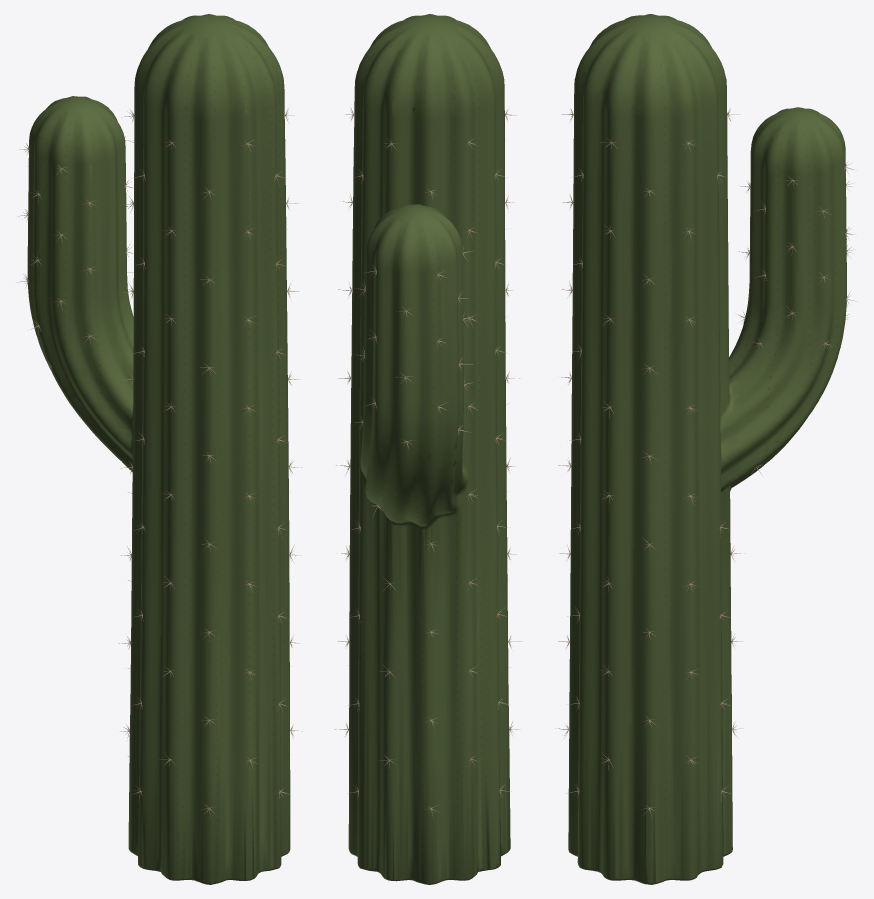
Rendered from frontier-cactus-near.glb.
3 views of the same model, side by side, from view 1: azimuth 30°, elevation 25°; view 2: azimuth 150°, elevation 25°; view 3: azimuth 270°, elevation 25° (orthographic).
Visible parts, largest first — view 1: prefab.saguaro_one_arm; view 2: prefab.saguaro_one_arm; view 3: prefab.saguaro_one_arm.
Part boxes in pixels (x1,y1,x2,y2): prefab.saguaro_one_arm: (16,14,302,884); prefab.saguaro_one_arm: (335,14,522,884); prefab.saguaro_one_arm: (555,14,857,884).
Size of the model in its own units: 0.4734 by 1.92 by 0.6403.
1 material, 1 textured.
